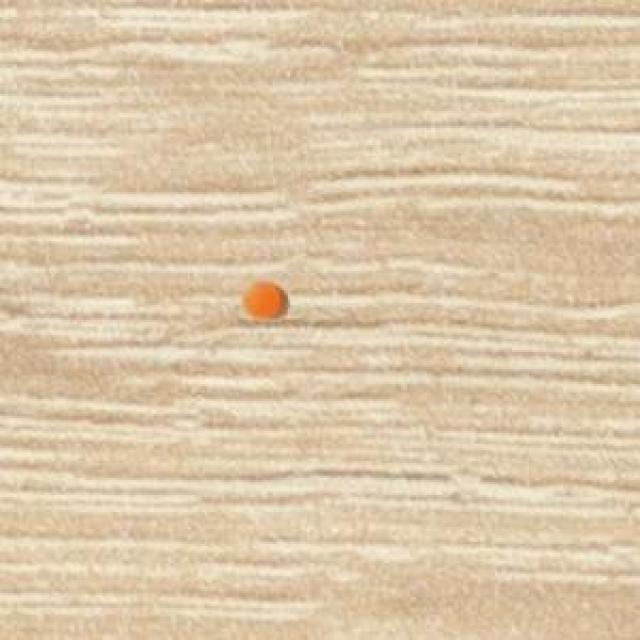Bactidol: (227, 264, 296, 334)
